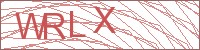L: (68, 9, 87, 38)
R: (43, 12, 67, 40)
W: (14, 12, 46, 40)
X: (92, 5, 118, 35)
